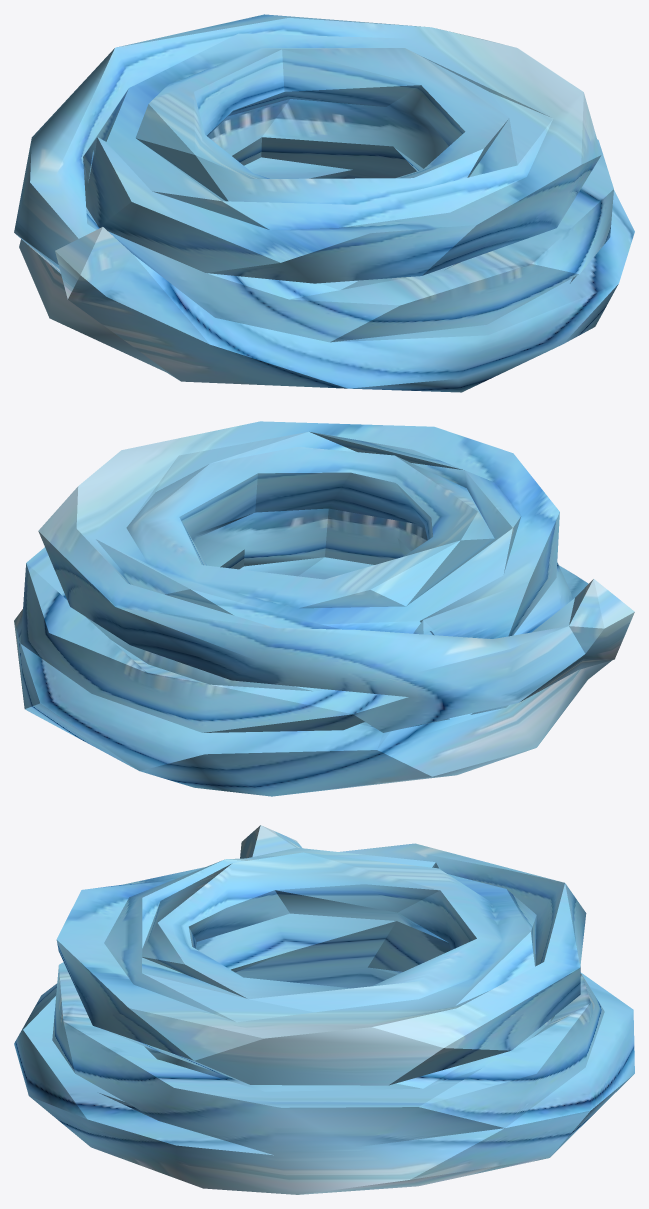
3 renders of one model, top to bottom at view 1: azimuth 30°, elevation 25°; view 2: azimuth 150°, elevation 25°; view 3: azimuth 270°, elevation 25°, orthographic. The views are drawn at different scales.
Parts seen in each view (by area): view 1: Decor_rope_coil; view 2: Decor_rope_coil; view 3: Decor_rope_coil.
Part boxes in pixels (box(x1,y1,x2,y2)): Decor_rope_coil: box(14, 14, 634, 392); Decor_rope_coil: box(14, 421, 634, 796); Decor_rope_coil: box(14, 825, 634, 1194).
Bounding box in the file's own units: 0.578 × 0.179 × 0.5799.
Materials: 1 (1 with a texture image).
